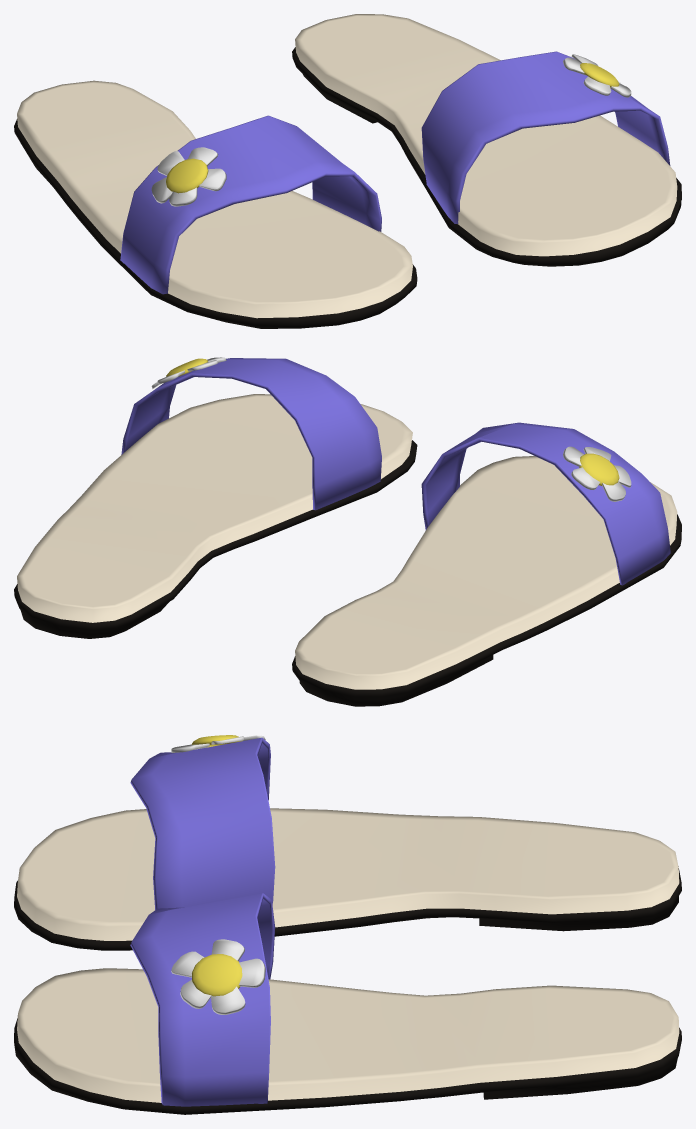
Rendered from sweethome3d-scopia-flip-flops.glb.
3 renders of one model, top to bottom at view 1: azimuth 30°, elevation 25°; view 2: azimuth 150°, elevation 25°; view 3: azimuth 270°, elevation 25°, orthographic. The views are drawn at different scales.
Parts seen in each view (by area): view 1: rightFoot, leftFoot; view 2: leftFoot, rightFoot; view 3: leftFoot, rightFoot.
Part boxes in pixels (x1,y1,x2,y2): rightFoot: (14, 80, 417, 328); leftFoot: (292, 14, 681, 266); leftFoot: (14, 357, 417, 638); rightFoot: (292, 422, 681, 706); leftFoot: (14, 893, 681, 1114); rightFoot: (14, 735, 681, 950).
Size of the model in its own units: 19.88 by 4.59 by 19.28.
